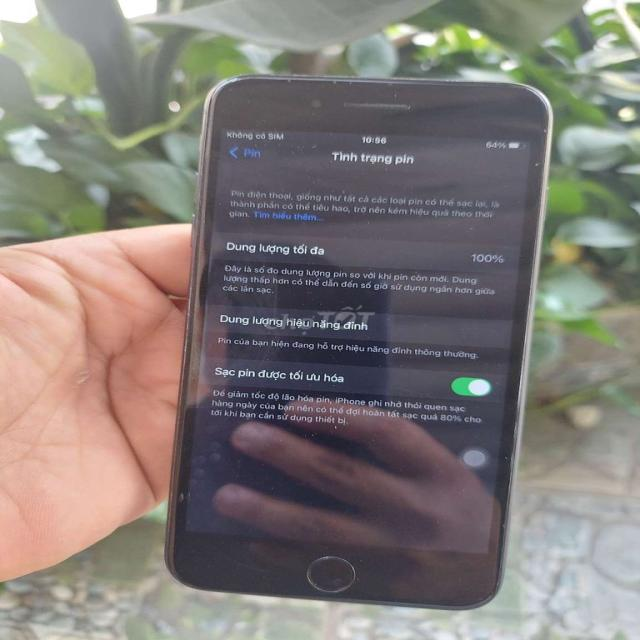scratch: (301, 544, 373, 592), (244, 73, 406, 88), (524, 119, 552, 173), (386, 95, 404, 106), (177, 489, 183, 504)
